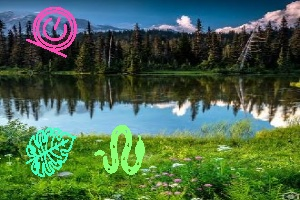关机键: (26, 7, 77, 60)
大树叶: (23, 127, 73, 176)
蛇: (96, 125, 146, 175)
